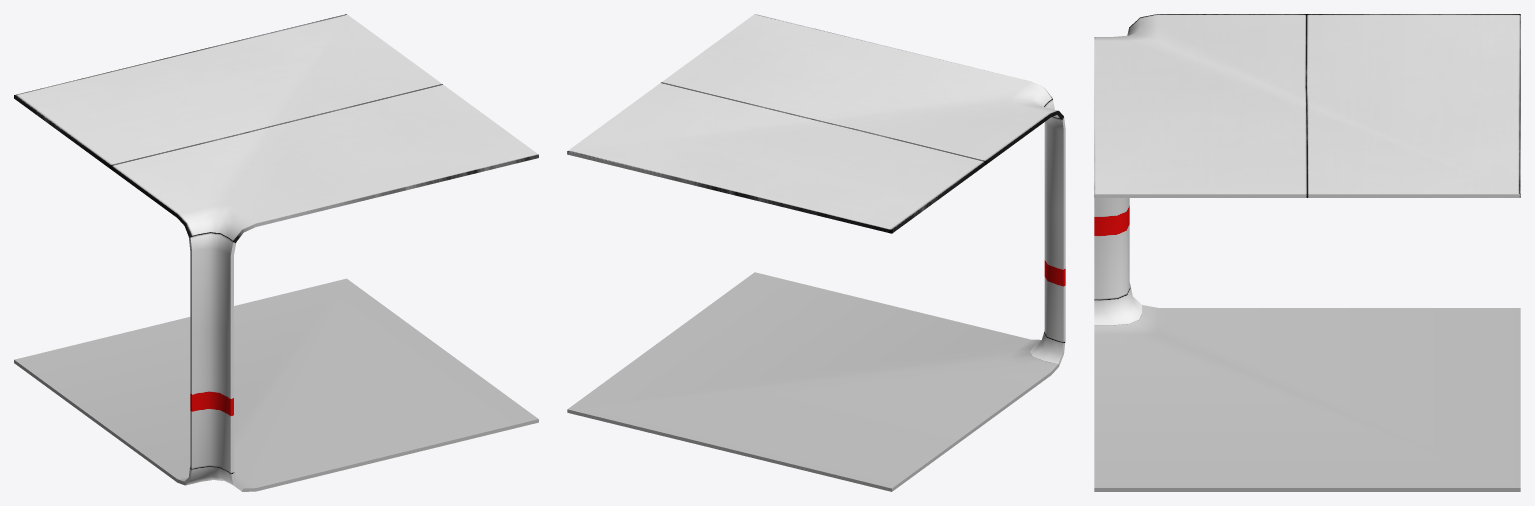
The model's file is Room_Corner_002.FBX.
The picture shows the model from 3 angles, left to right: view 1: azimuth 30°, elevation 25°; view 2: azimuth 150°, elevation 25°; view 3: azimuth 270°, elevation 25°; orthographic projection. The views are drawn at different scales.
Parts seen in each view (by area): view 1: Room_Entrence_001; view 2: Room_Entrence_001; view 3: Room_Entrence_001.
Part boxes in pixels (x1,y1,x2,y2): Room_Entrence_001: (14,14,538,491); Room_Entrence_001: (567,14,1065,491); Room_Entrence_001: (1094,14,1520,491).
Bounding box in the file's own units: 3 × 2.31 × 3.
